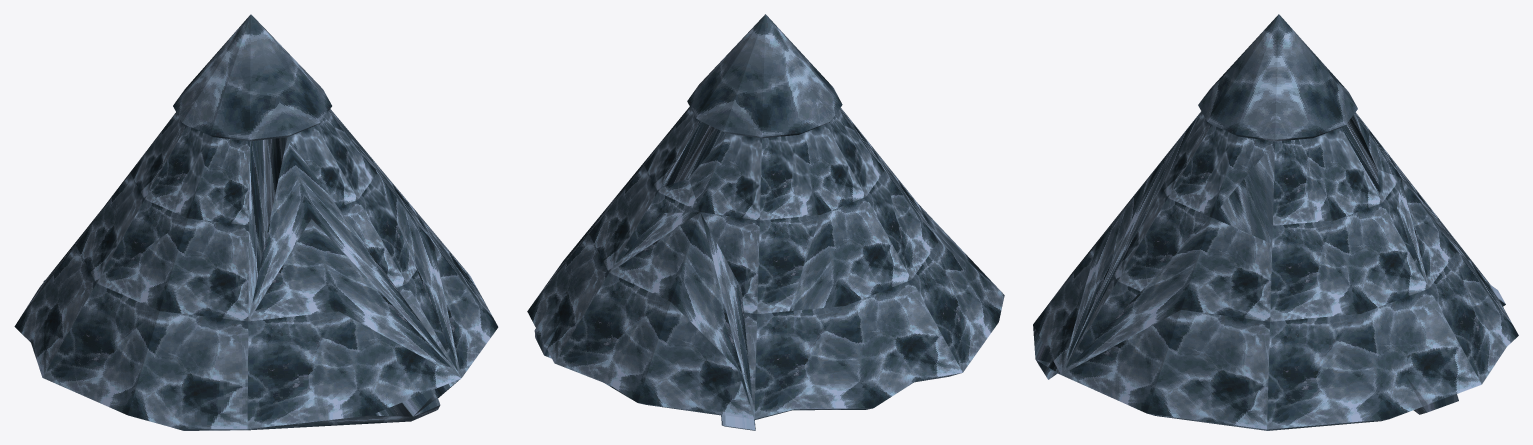
File: item_castle_turret_topper_ice.glb
The picture shows the model from 3 angles, left to right: view 1: azimuth 30°, elevation 25°; view 2: azimuth 150°, elevation 25°; view 3: azimuth 270°, elevation 25°; orthographic projection. The views are drawn at different scales.
Parts seen in each view (by area): view 1: Topper; view 2: Topper; view 3: Topper.
Part boxes in pixels (x1,y1,x2,y2): Topper: (14, 14, 498, 430); Topper: (527, 14, 1004, 430); Topper: (1033, 14, 1518, 430).
Bounding box in the file's own units: 1.72 × 1.3 × 1.72.
1 material, 1 textured.
